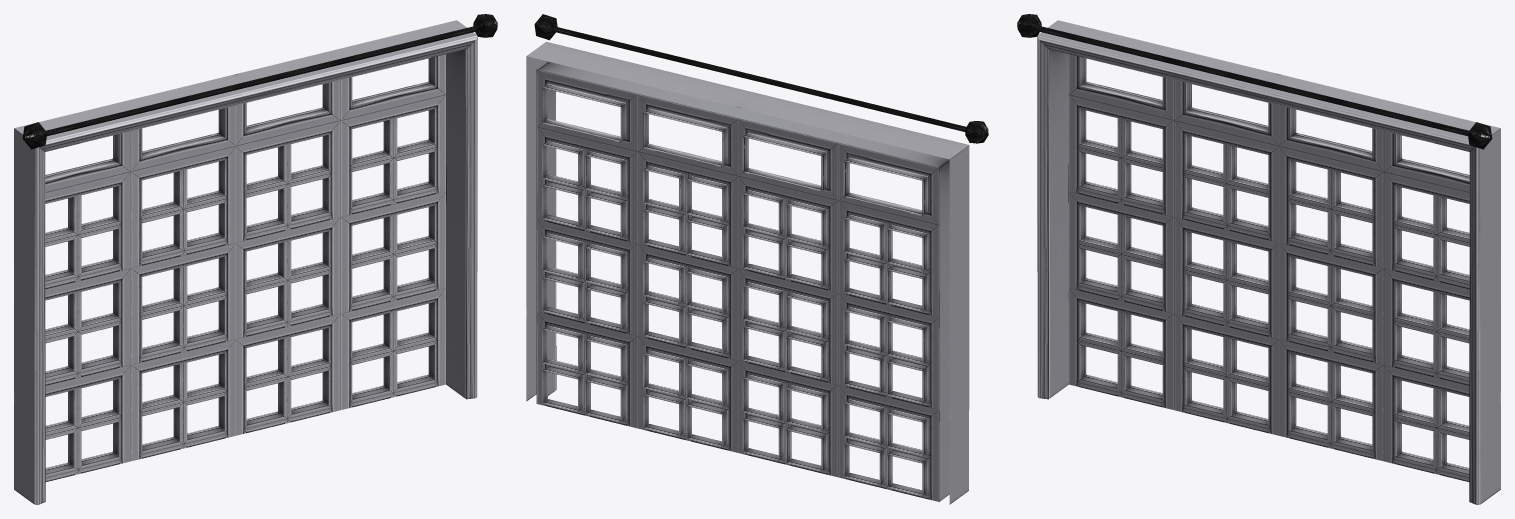
File: Window01.FBX
3 views of the same model, side by side, from view 1: azimuth 30°, elevation 25°; view 2: azimuth 150°, elevation 25°; view 3: azimuth 330°, elevation 25° (orthographic). The views are drawn at different scales.
Parts seen in each view (by area): view 1: Window01; view 2: Window01; view 3: Window01.
Part boxes in pixels (x1,y1,x2,y2): Window01: [14, 14, 497, 504]; Window01: [526, 14, 988, 504]; Window01: [1017, 14, 1500, 504].
Size of the model in its own units: 584 by 451 by 79.06.
